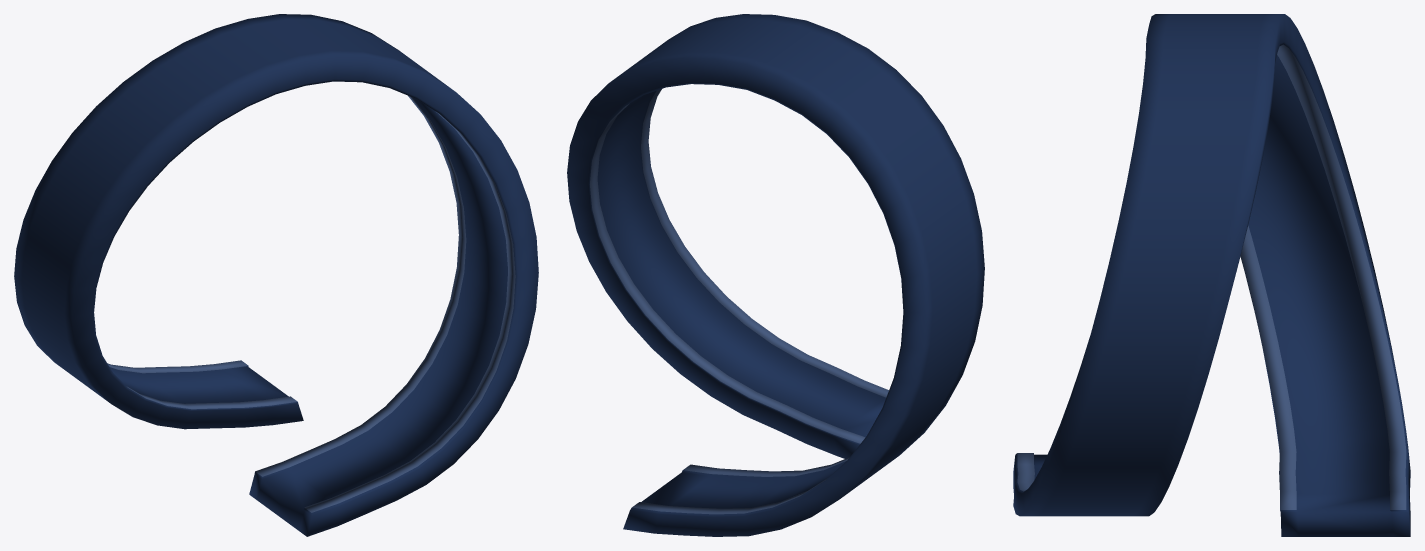
The model's file is loop.fbx.
3 views of the same model, side by side, from view 1: azimuth 30°, elevation 25°; view 2: azimuth 150°, elevation 25°; view 3: azimuth 270°, elevation 25° (orthographic). The views are drawn at different scales.
Visible parts, largest first — view 1: full_circle; view 2: full_circle; view 3: full_circle.
Part boxes in pixels (x1,y1,x2,y2): full_circle: [14, 14, 538, 536]; full_circle: [567, 14, 984, 536]; full_circle: [1013, 14, 1410, 536].
Size of the model in its own units: 2 by 1.99 by 1.54.
